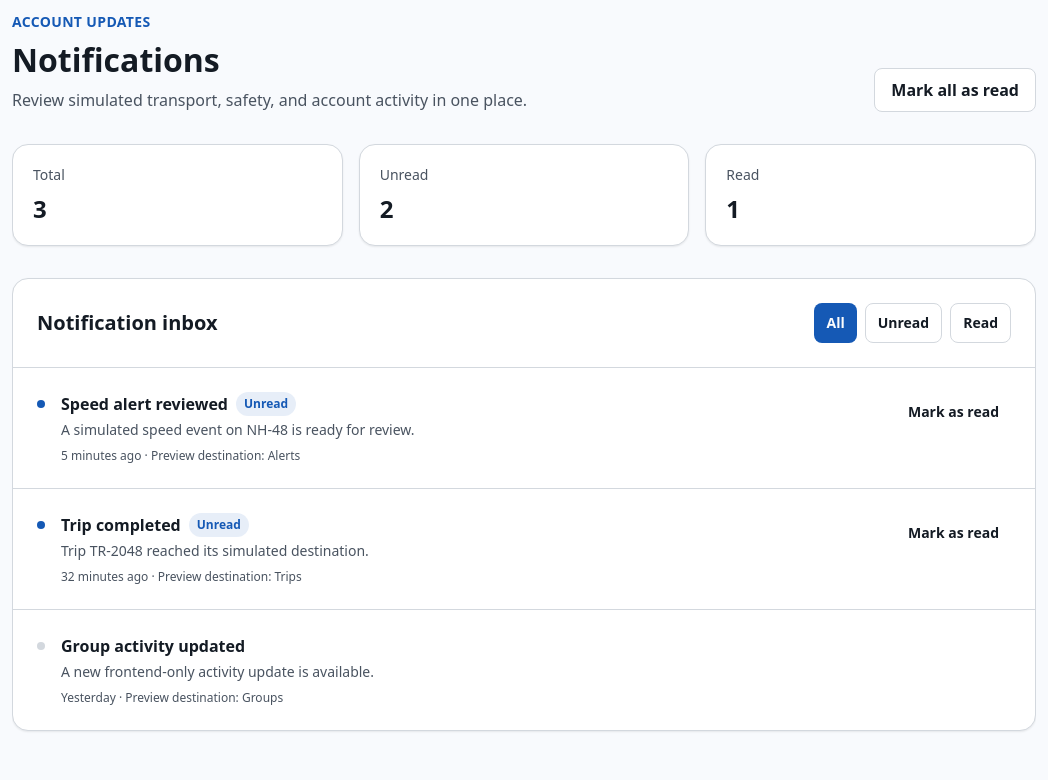
Test: NotificationsPage › filters unread notifications and marks one as read
Click the button "Unread": (903, 323) [865,303,942,343]
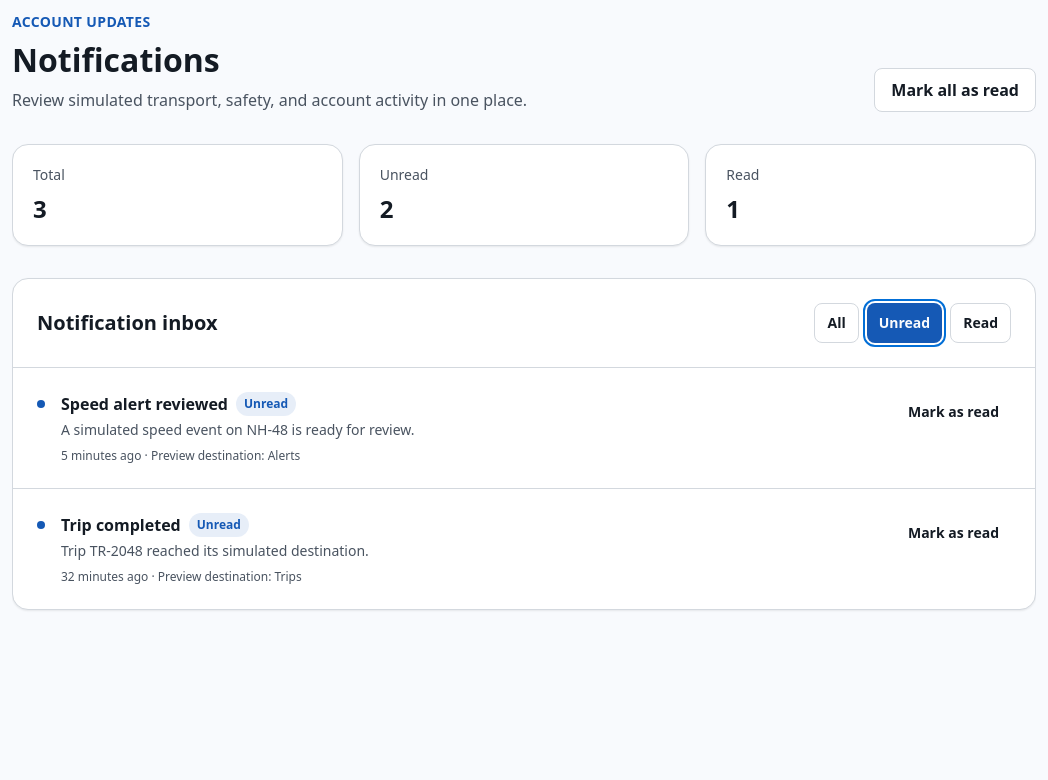
Click the button "Mark as read" in the row of "Speed alert reviewed": (953, 412) [896,392,1011,432]
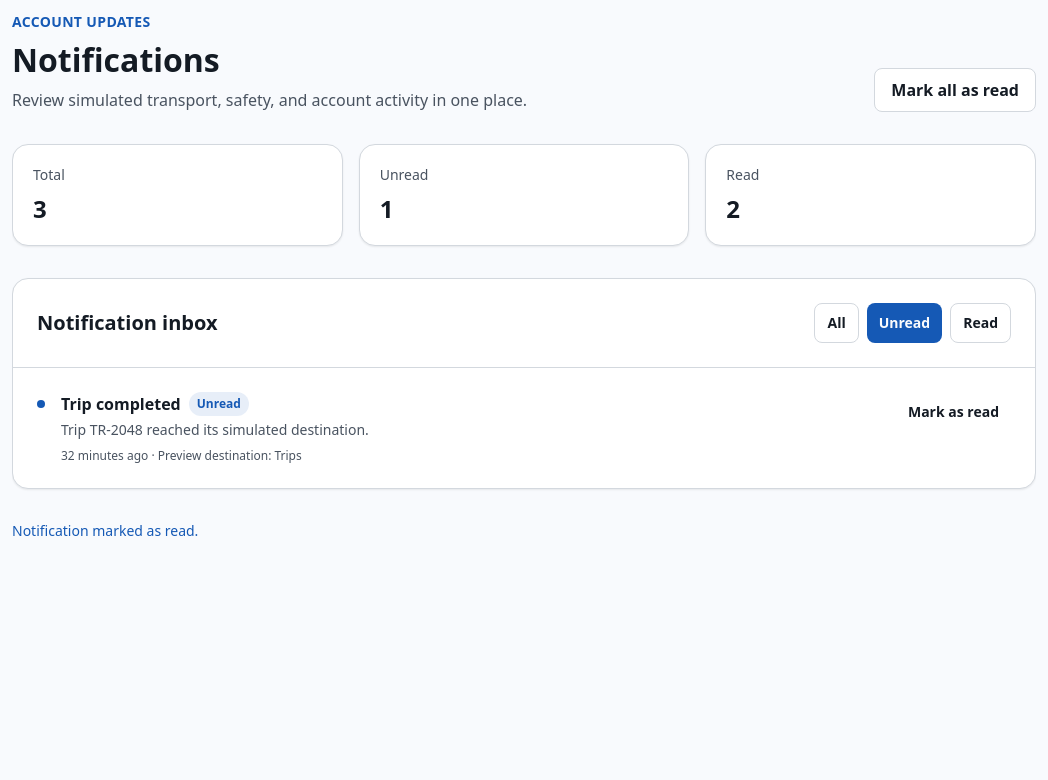
expect the text "Notification marked as read." is shown: met, box [12,521,198,540]
